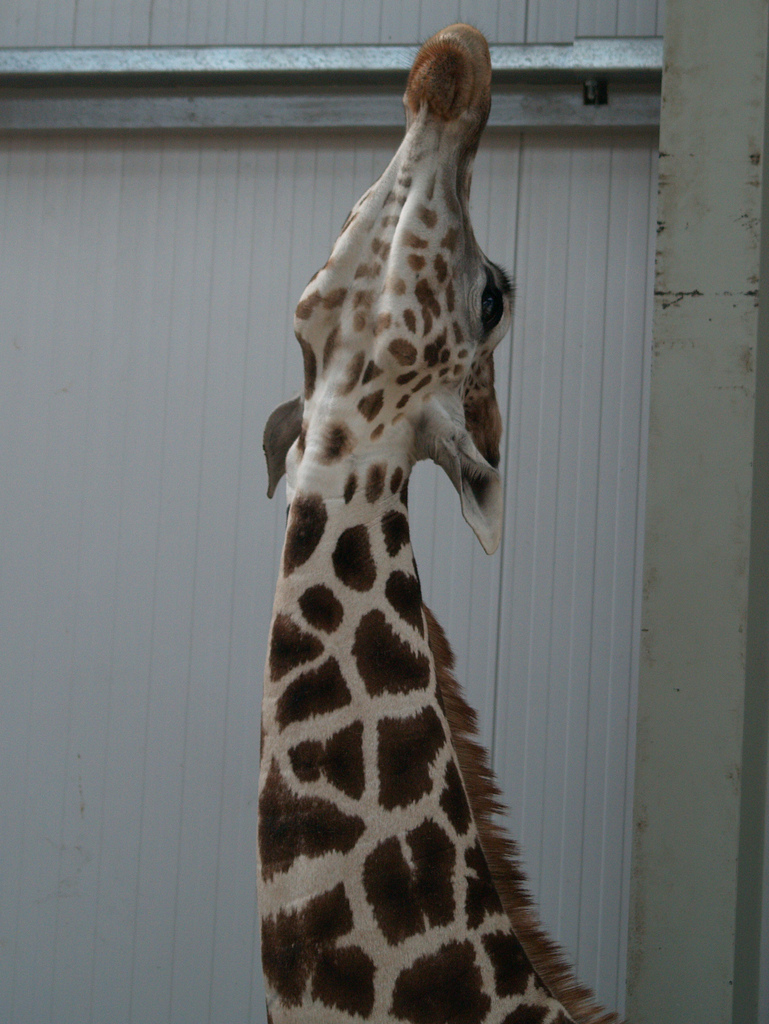giraffe: (250, 17, 614, 1000)
